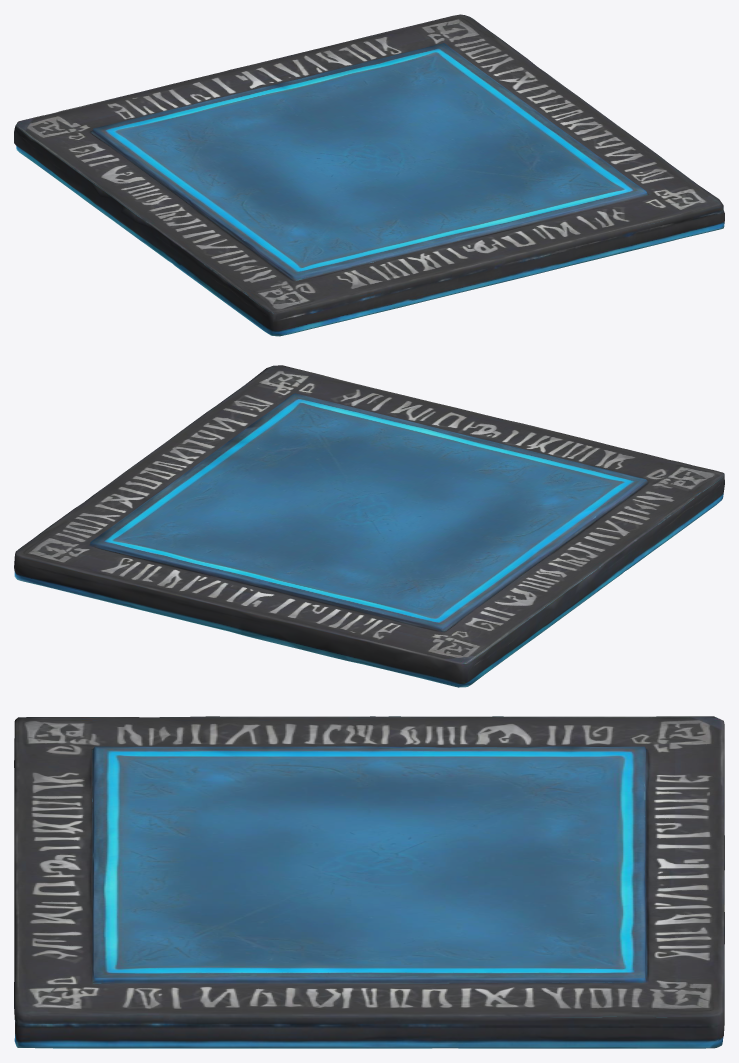
Rendered from DuengeonPedalSwitch.fbx.
3 views of the same model, one above another, from view 1: azimuth 30°, elevation 25°; view 2: azimuth 150°, elevation 25°; view 3: azimuth 270°, elevation 25° (orthographic). The views are drawn at different scales.
Visible parts, largest first — view 1: Mesh1.0; view 2: Mesh1.0; view 3: Mesh1.0.
Boxes of the visible parts, x1,y1,x2,y2 form: Mesh1.0: (14, 14, 724, 336); Mesh1.0: (14, 365, 724, 687); Mesh1.0: (14, 716, 724, 1048).
Bounding box in the file's own units: 199 × 11.77 × 200.
1 material, 1 textured.
